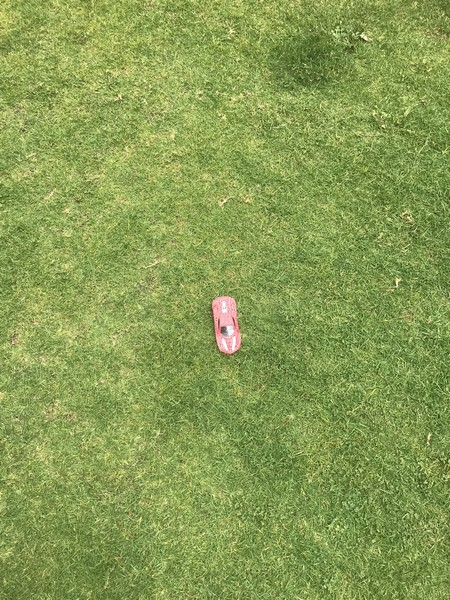RC: (210, 293, 243, 356)
